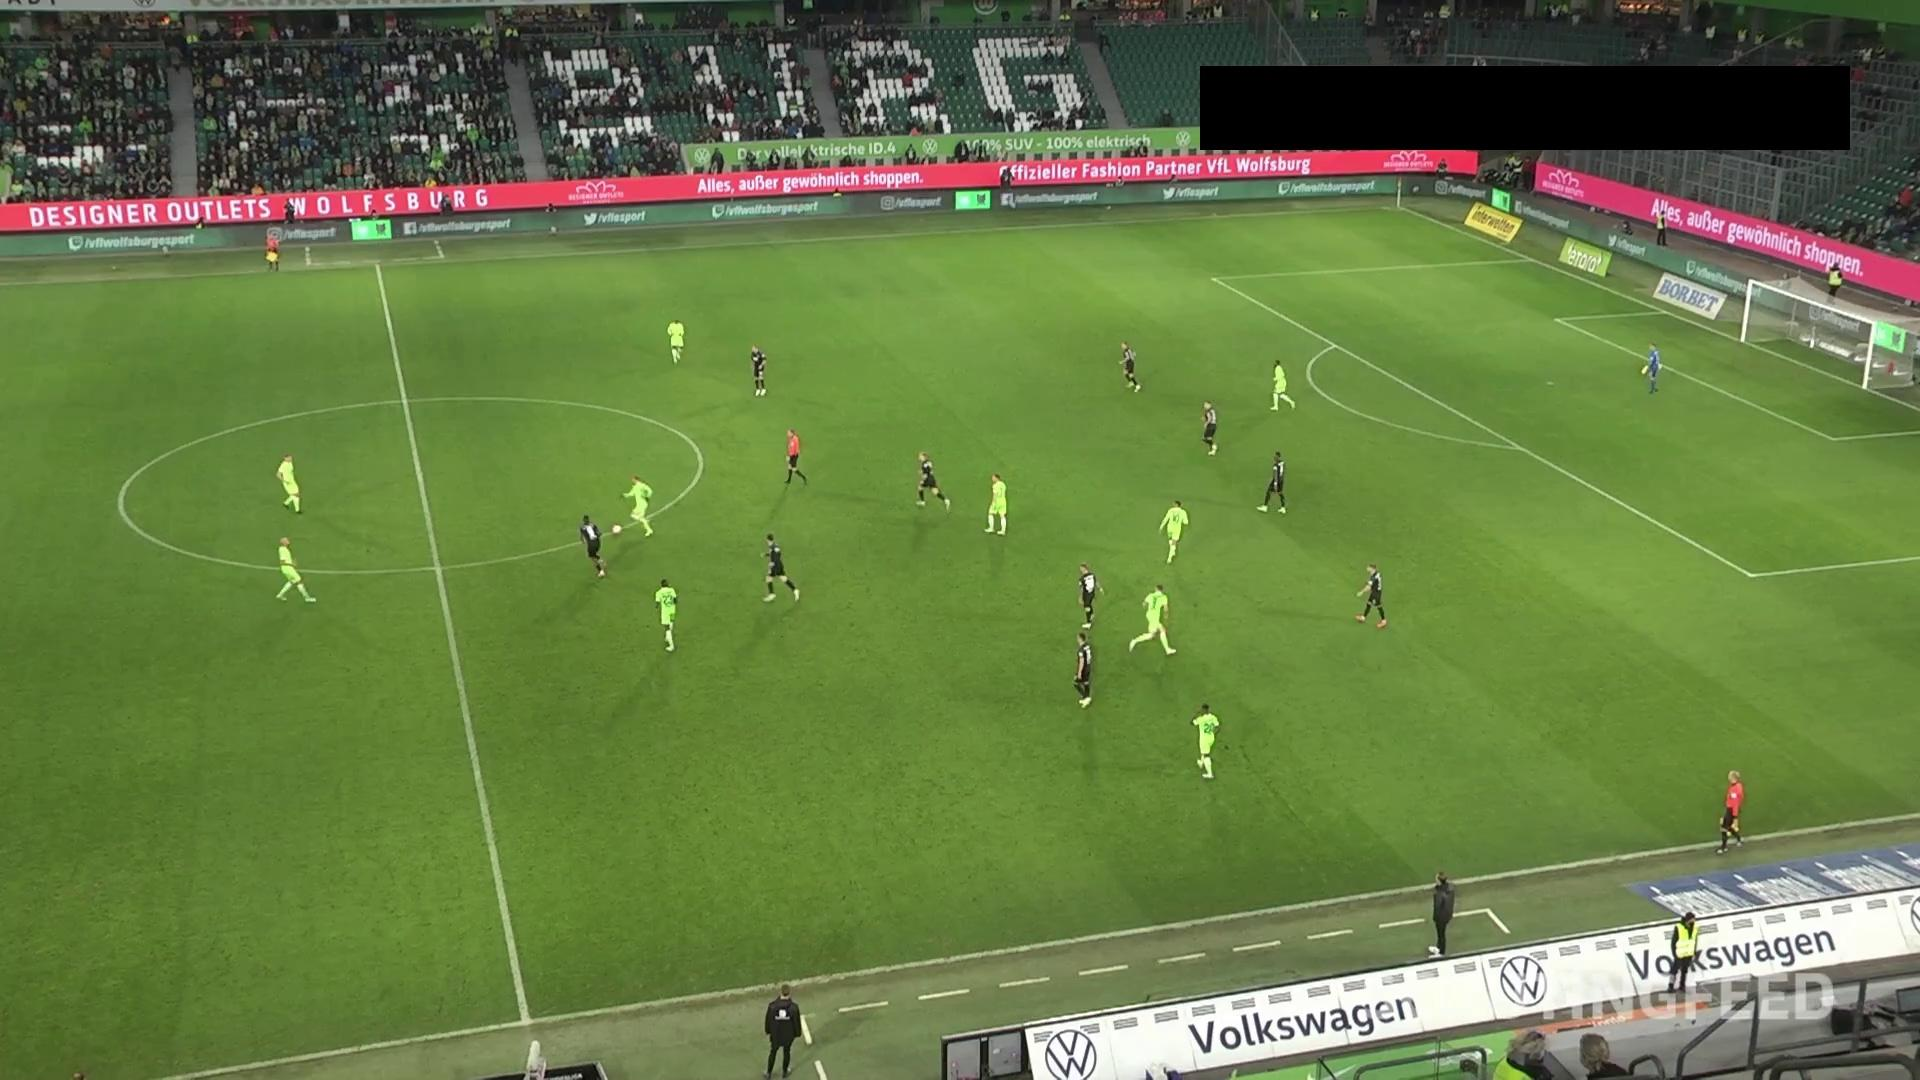Location-of-ball: (603, 517, 630, 547)
